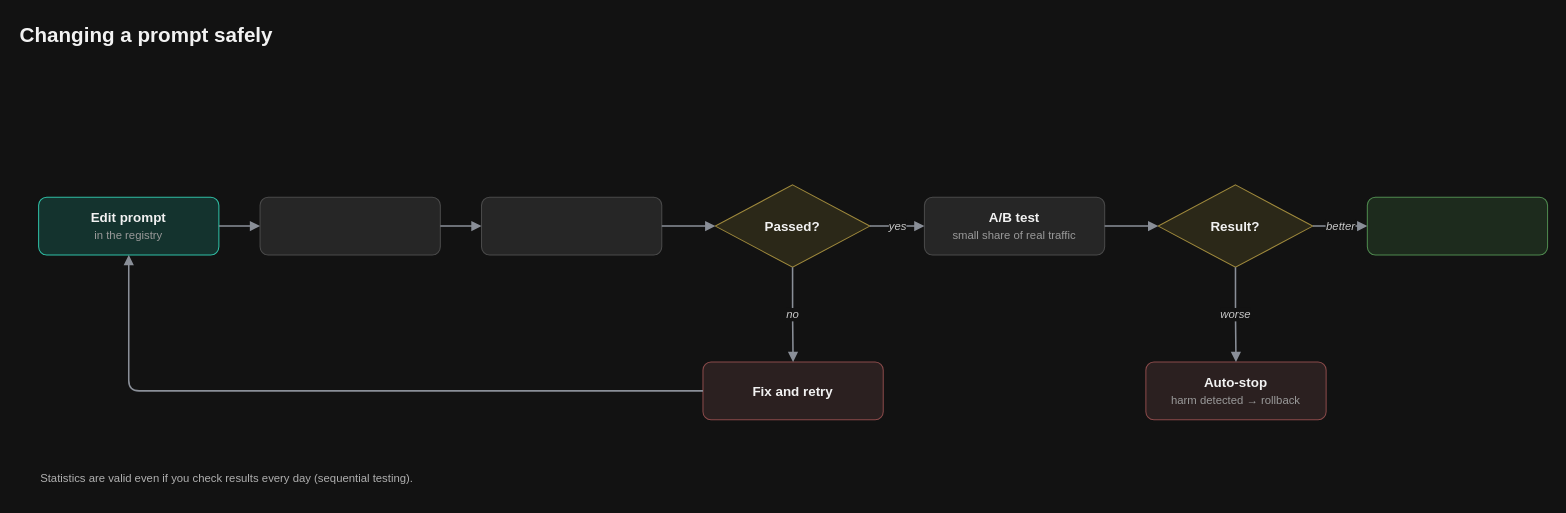
Image size: 1566x513. Some labels were removed from this diagram. The centre of each missing label's shape, as x and y in pixels:
New version saved old ones never change: the point at 349,225
Promote to production apps pick it up within 60s: the point at 1457,225
Run tests on a saved dataset: the point at 571,225
